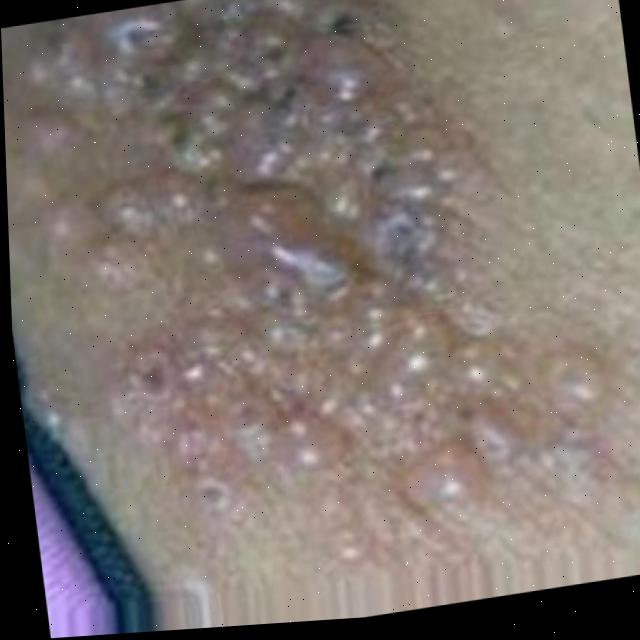Shingles: (0, 0, 623, 577)
